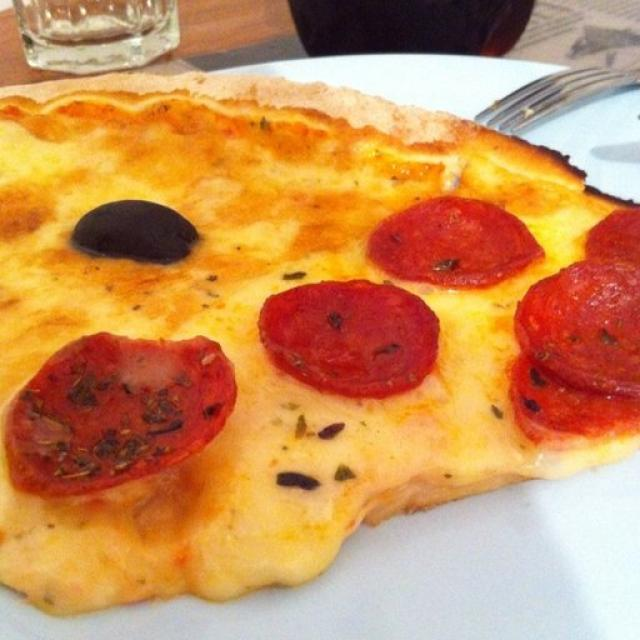Olives: (74, 196, 195, 266)
Pepperoni: (0, 335, 240, 499), (256, 276, 442, 404), (368, 190, 538, 296), (515, 265, 640, 406), (506, 348, 640, 445), (583, 201, 640, 282)
Pizza: (0, 75, 640, 614)
